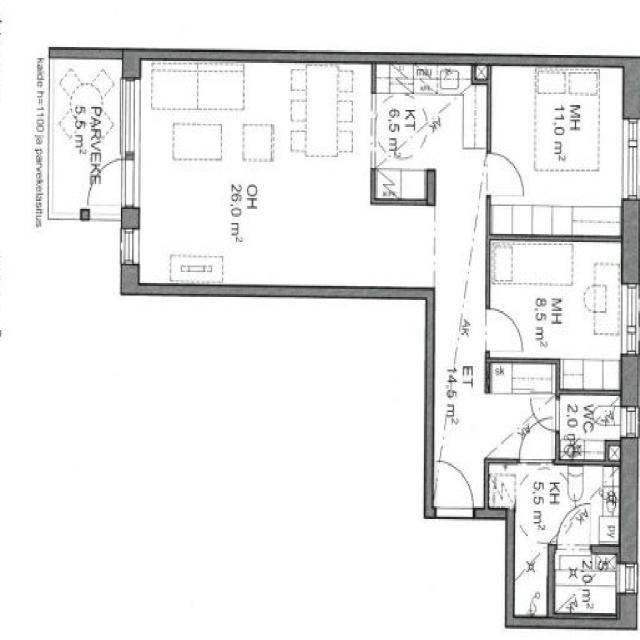door: (84, 159, 140, 207), (436, 459, 476, 518), (558, 501, 592, 554), (486, 308, 526, 352), (486, 152, 525, 195), (520, 416, 553, 464), (528, 397, 561, 432)
